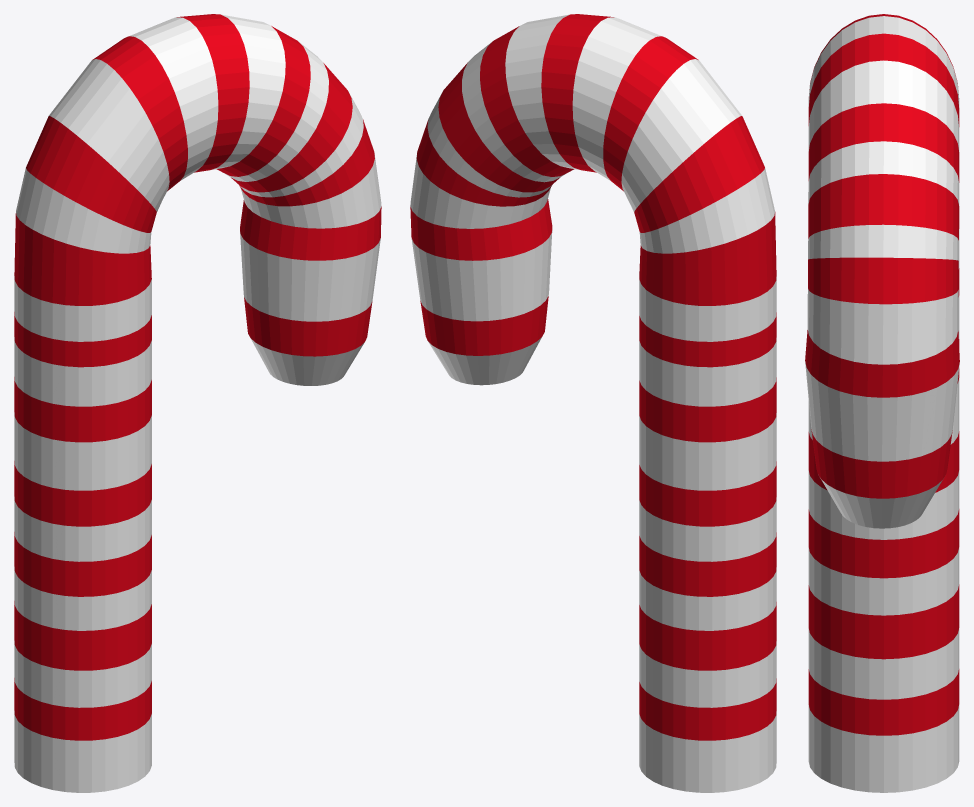
The model's file is candy cane.fbx.
3 renders of one model, left to right at view 1: azimuth 30°, elevation 25°; view 2: azimuth 150°, elevation 25°; view 3: azimuth 270°, elevation 25°, orthographic. The views are drawn at different scales.
Visible parts, largest first — view 1: Cylinder; view 2: Cylinder; view 3: Cylinder.
Boxes of the visible parts, x1,y1,x2,y2 form: Cylinder: (14,14,381,792); Cylinder: (410,14,776,792); Cylinder: (805,14,959,792).
Bounding box in the file's own units: 662 × 1302 × 233.
